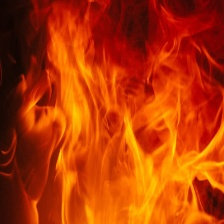fire: (2, 2, 224, 222)
